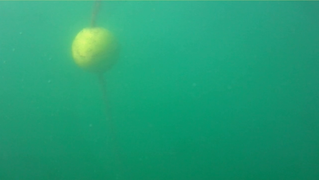buoy: (70, 26, 120, 72)
